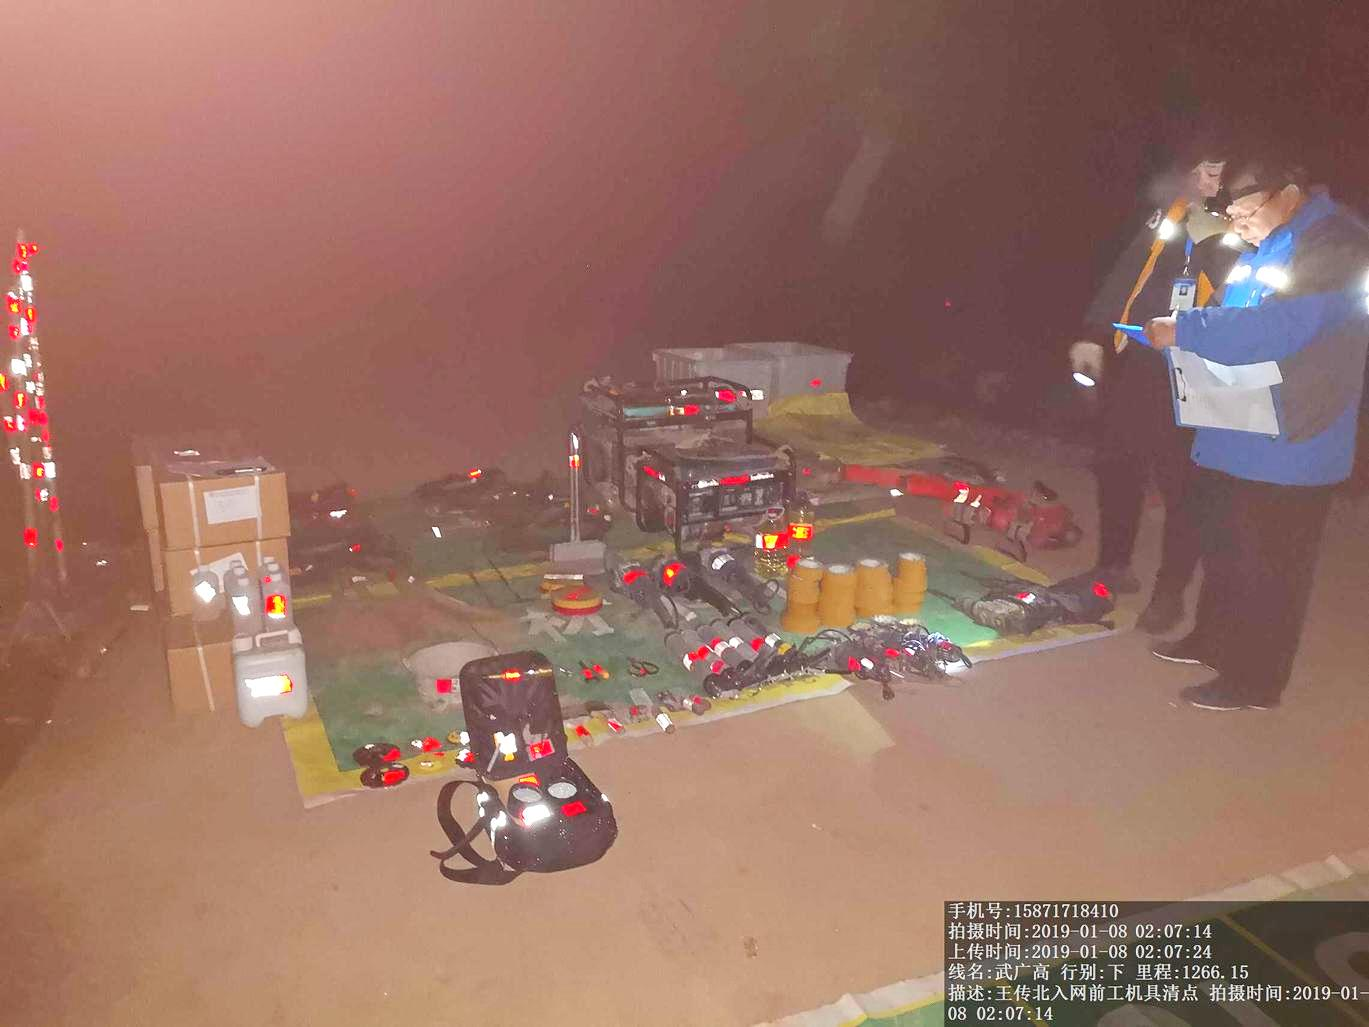BZD: (763, 398, 943, 465), (743, 336, 858, 399)
DJ: (633, 446, 816, 535), (580, 375, 767, 453)
GFJ: (899, 467, 1085, 550), (702, 543, 781, 618), (610, 556, 676, 630)
GJB: (450, 666, 617, 880)
JC: (547, 585, 610, 622)
